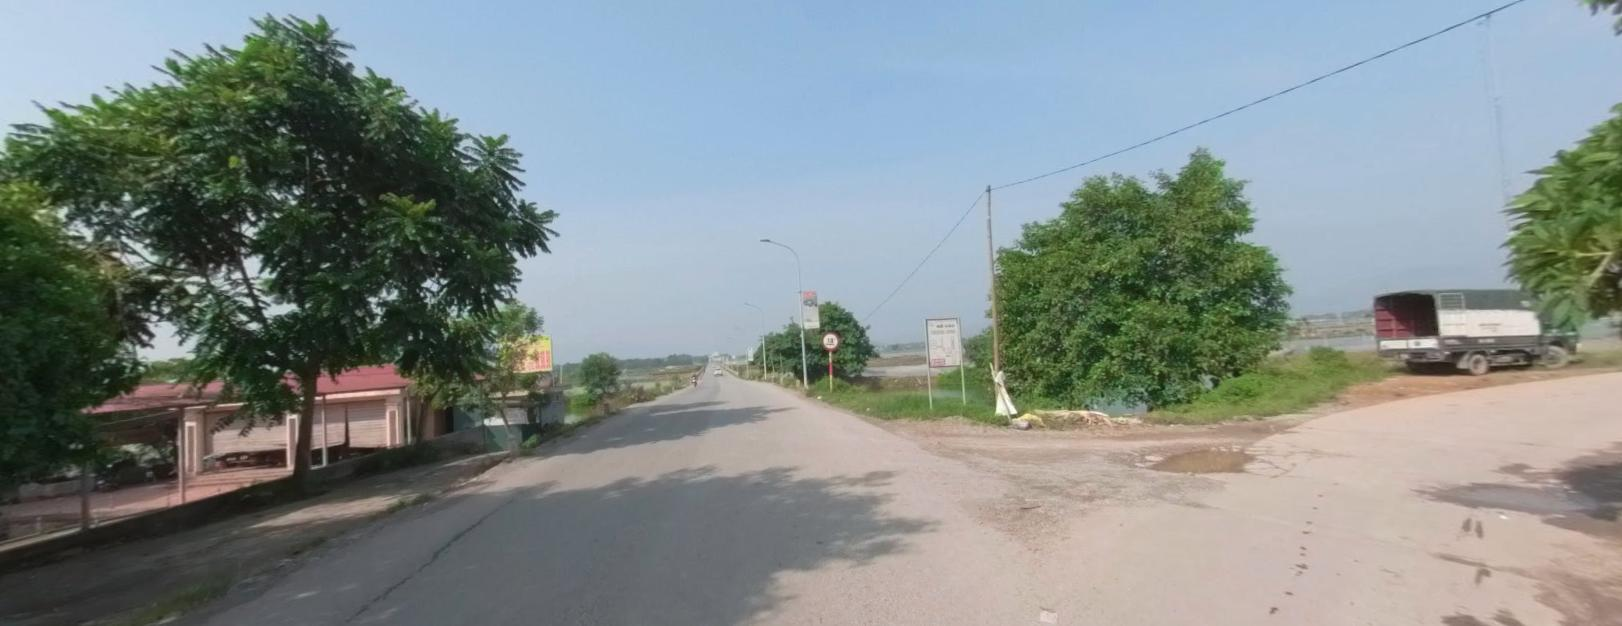Cam con lai: (820, 330, 840, 349)
